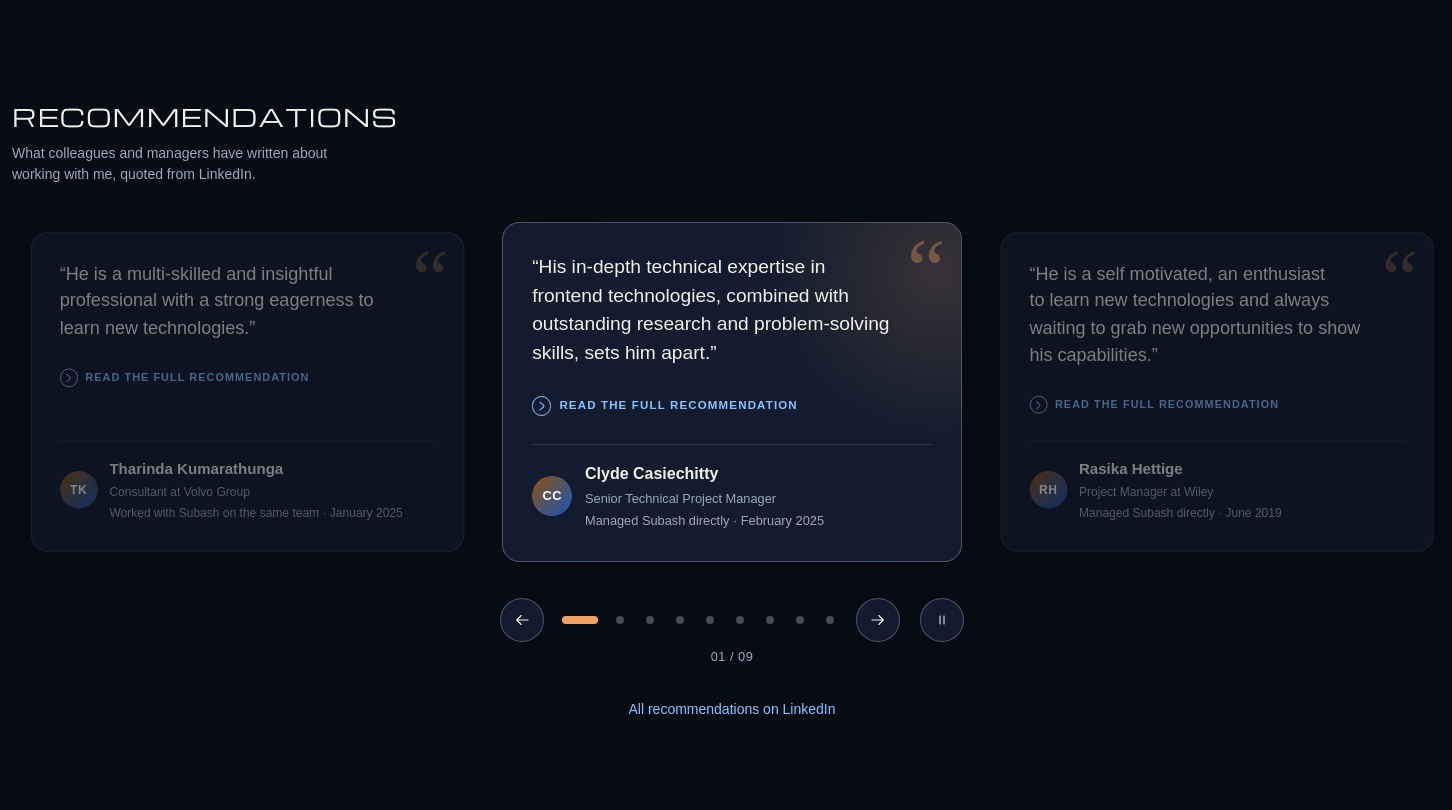
it: Recommendations › marks the first recommendation as current and moves with the controls
Click the button named "Next recommendation" at point(878, 620), box [856, 598, 900, 642]
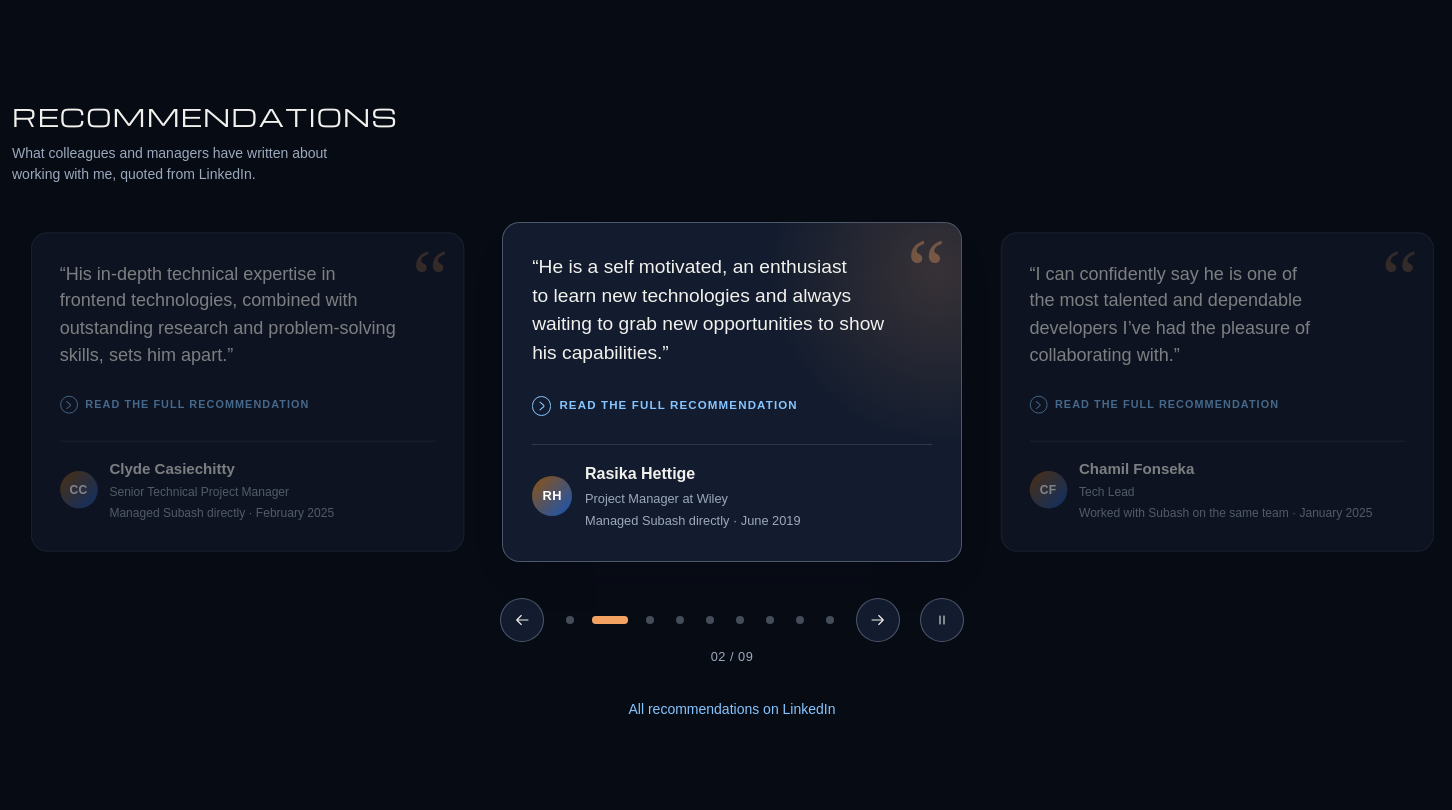
Expected: the button named "Recommendation 2: Rasika Hettige" is marked as current, [586, 598, 634, 642]
Click the button named "Previous recommendation" at point(522, 620), box [500, 598, 544, 642]
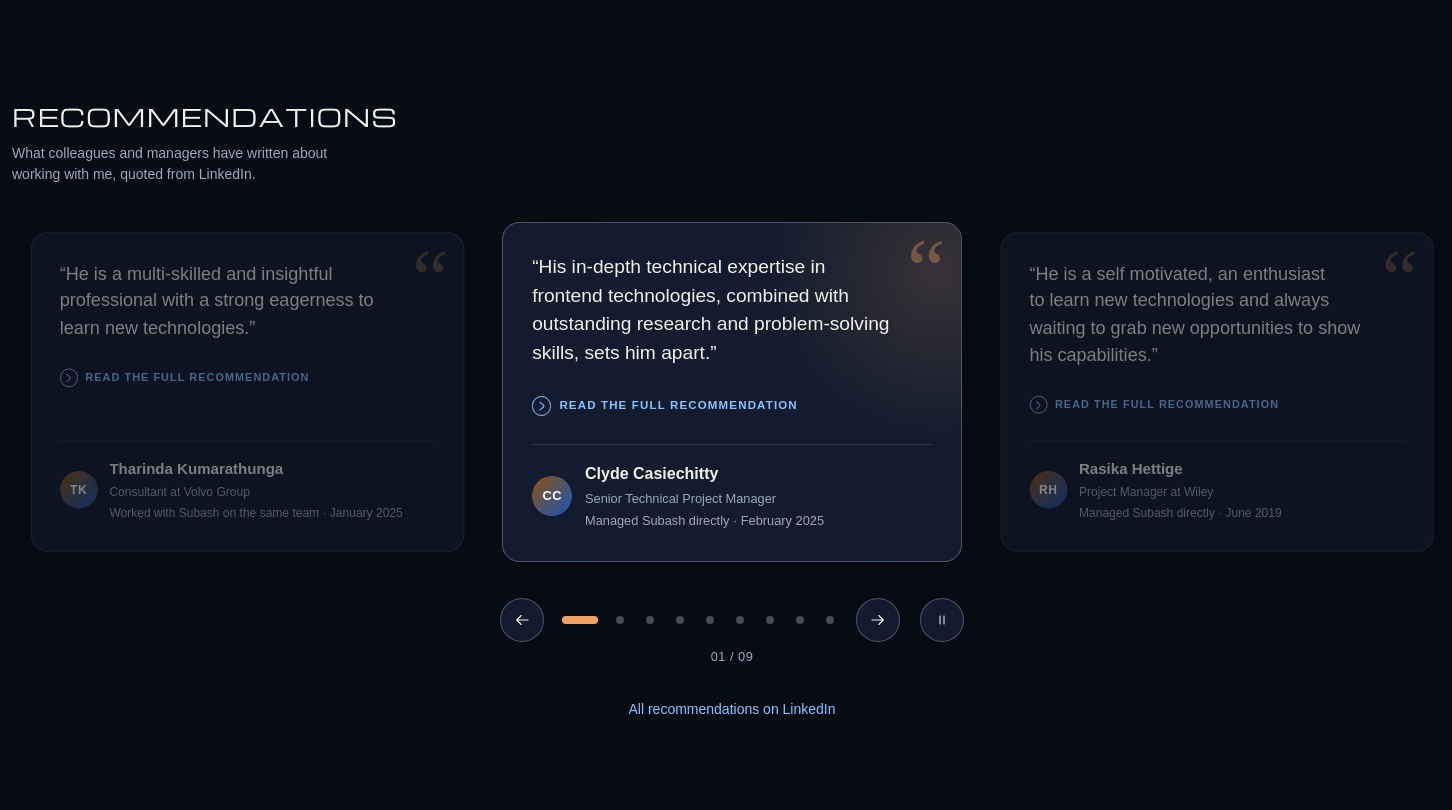
Click the button named "Previous recommendation" at point(522, 620), box [500, 598, 544, 642]
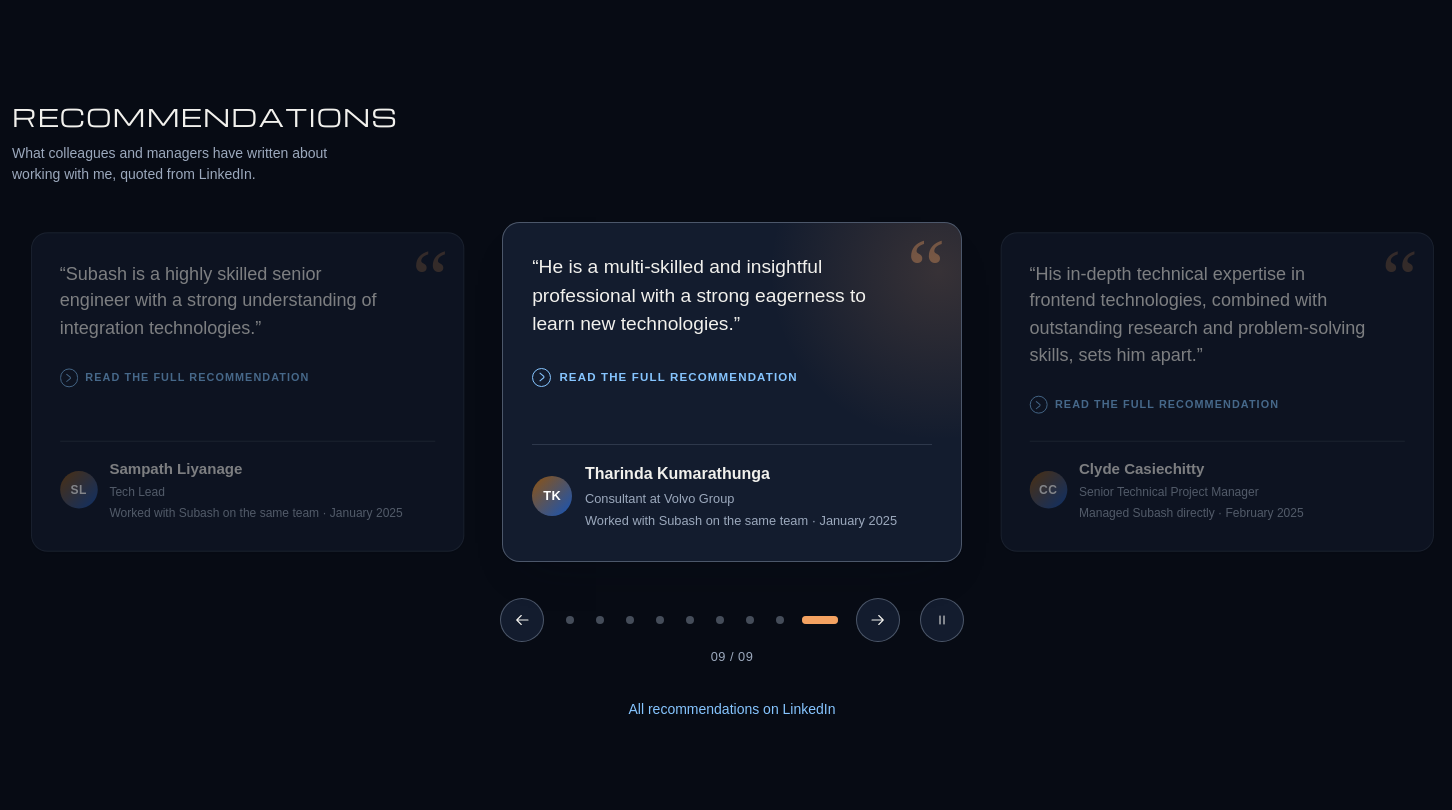
Expected: the button named "Recommendation 9: Tharinda Kumarathunga" is marked as current, [796, 598, 844, 642]
Click the button named "Recommendation 4: Gimantha Dissanayake" at point(660, 620), box [646, 598, 674, 642]
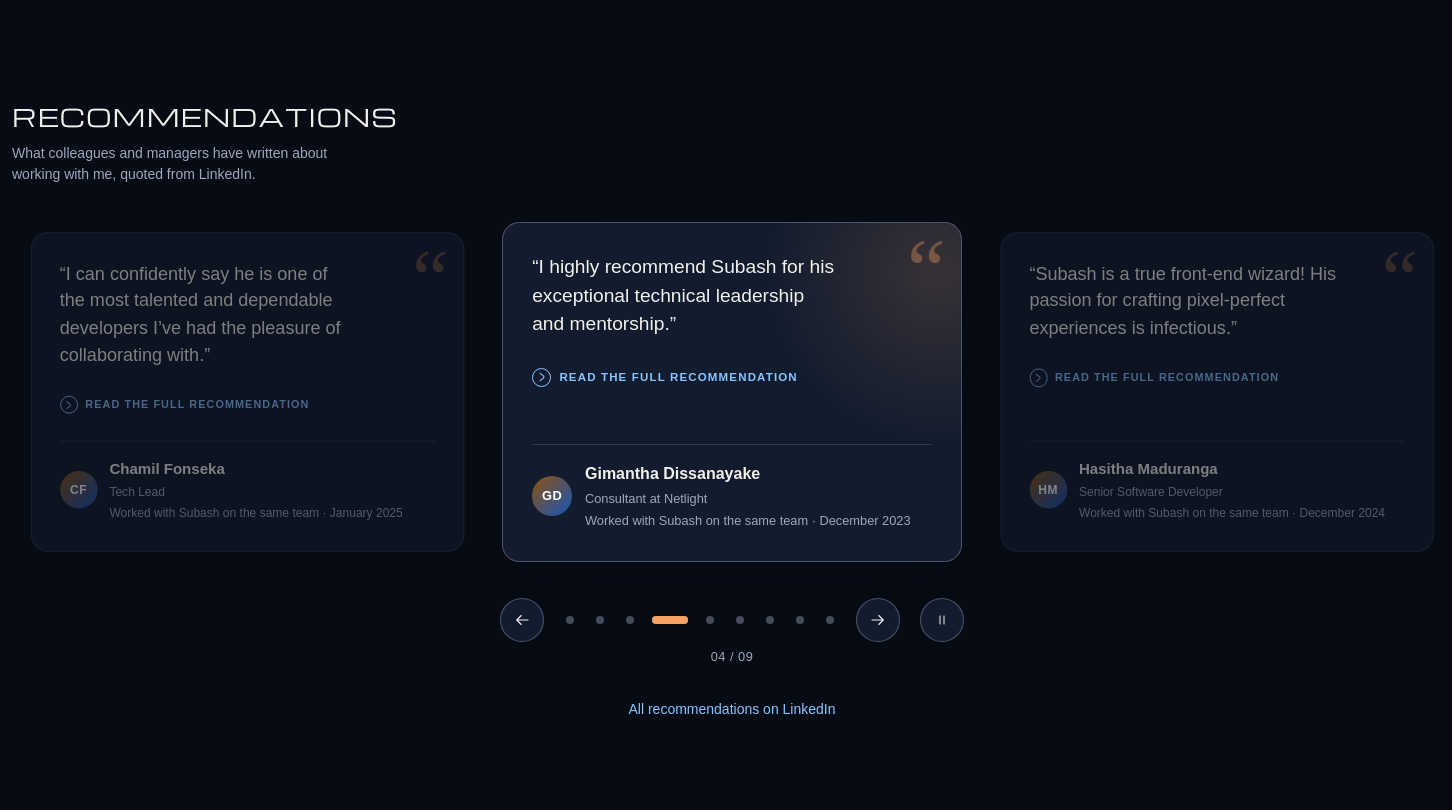
Expected: the button named "Recommendation 4: Gimantha Dissanayake" is marked as current, [646, 598, 694, 642]
